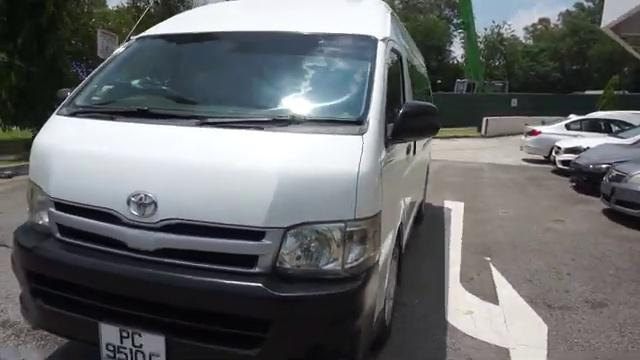Van: (23, 3, 443, 360)
